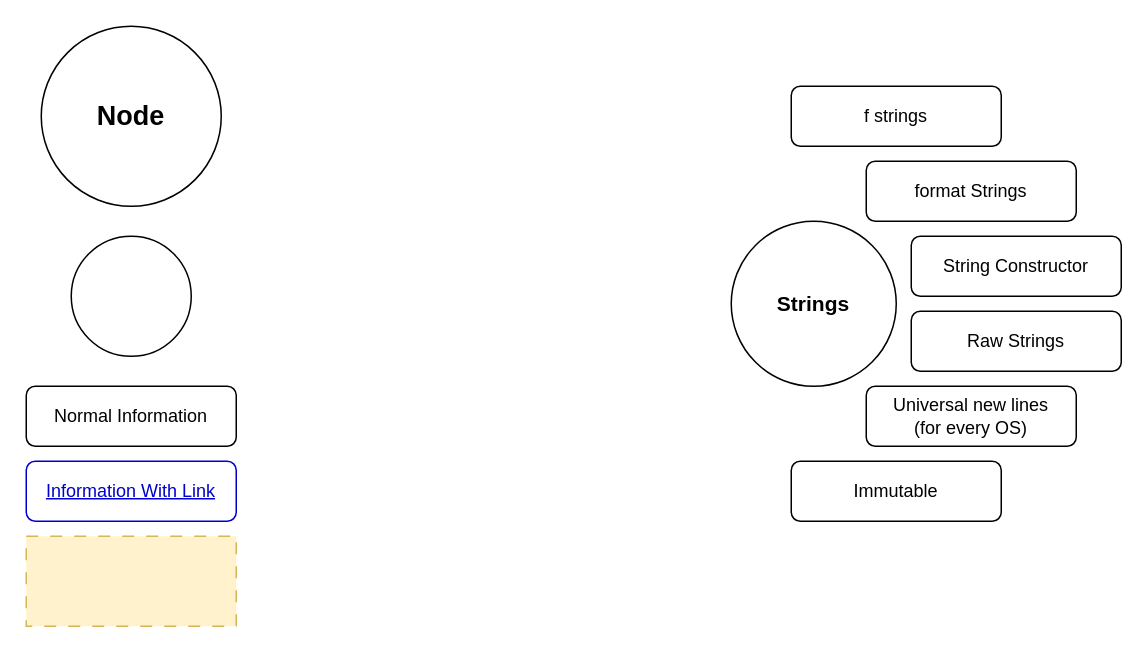
Some shapes in this 1148 by 653 pixel diagram are drawn without their labels. The shapes that lost their labels are listed below. From the top down, each one's box as (x1, y1, x2, y2) in pixels, then its label:
(70, 235, 191, 356): Sub Node
(25, 535, 236, 626): info
